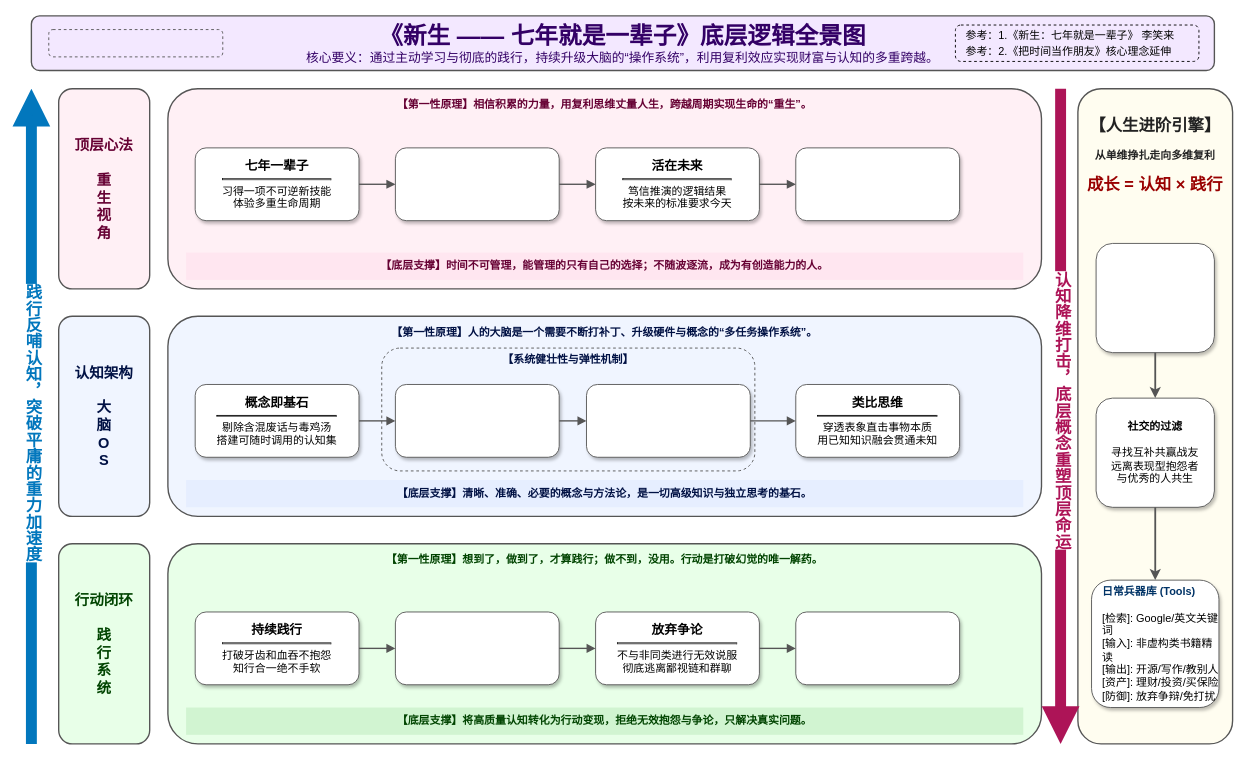
Some shapes in this 1249 by 776 pixel diagram are drawn without their labels. The shapes that lost their labels are listed below. From the top down, each one's centre as x and y in pixels, then its label:
At (x=135, y=43): "#自我迭代 #认知升级 #践行变现".
At (x=478, y=185): "复利效应 智力与财富指数级增长 越早开始越容易突破".
At (x=878, y=185): "主动选择 告别盲目的从众心理 转换焦点寻找大势".
At (x=1156, y=299): "知识的繁衍 教是最好的学习 系统化输出反哺输入 投资未来的自己".
At (x=478, y=422): "系统容错 冗余设计带来长久健壮性 接受不完美以避免崩溃".
At (x=669, y=422): "切换模式 苍蝇般破冰试错求存 蜜蜂般定向深耕积累".
At (x=478, y=649): "创造惊喜 保持开放与适度随机性 广交战友引发Serendipity".
At (x=878, y=649): "理财投资 追求被动(睡后)收入 洞察周期避开险盲与深坑".
